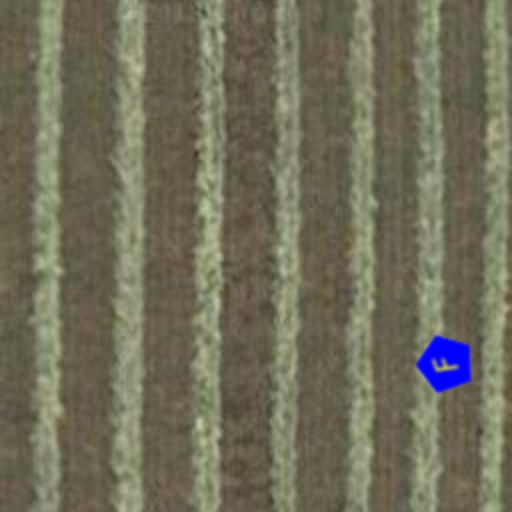pentagon: (406, 324, 486, 404)
